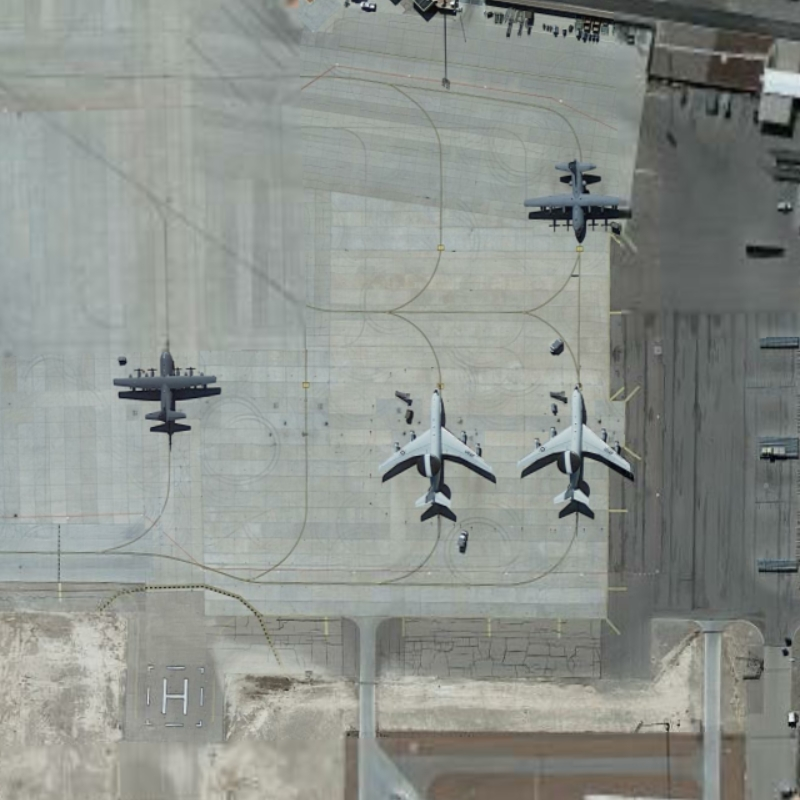A2: (517, 155, 640, 243), (110, 343, 225, 432)
A7: (369, 382, 497, 516), (515, 379, 636, 514)
